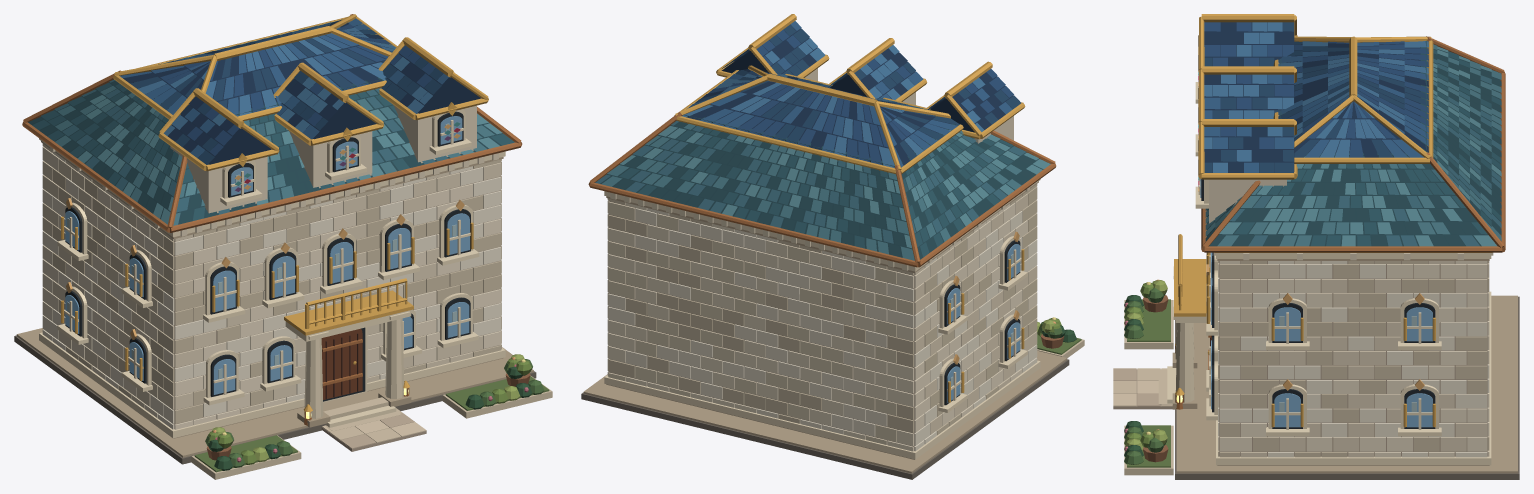
File: noble-nivel-8.glb
The picture shows the model from 3 angles, left to right: view 1: azimuth 30°, elevation 25°; view 2: azimuth 150°, elevation 25°; view 3: azimuth 270°, elevation 25°; orthographic projection. The views are drawn at different scales.
Parts seen in each view (by area): view 1: Casa nobre 08 #e6d7ba, Casa nobre 08 #ded1b9, Casa nobre 08 #eae1ce, Casa nobre 08 #cec1a8, Casa nobre 08 #e8dcc5, Casa nobre 08 #d5a452, Casa nobre 08 #20354f, Casa nobre 08 #b4a38a, Casa nobre 08 #294952, Casa nobre 08 #567185, Casa nobre 08 #a76e42, Casa nobre 08 #252c32 (+20 smaller); view 2: Casa nobre 08 #e8dcc5, Casa nobre 08 #ded1b9, Casa nobre 08 #eae1ce, Casa nobre 08 #cec1a8, Casa nobre 08 #294952, Casa nobre 08 #d5a452, Casa nobre 08 #b4a38a, Casa nobre 08 #e6d7ba, Casa nobre 08 #20354f, Casa nobre 08 #305762, Casa nobre 08 #46717c, Casa nobre 08 #3b6472 (+10 smaller); view 3: Casa nobre 08 #cec1a8, Casa nobre 08 #294952, Casa nobre 08 #ded1b9, Casa nobre 08 #e6d7ba, Casa nobre 08 #eae1ce, Casa nobre 08 #b4a38a, Casa nobre 08 #d5a452, Casa nobre 08 #e8dcc5, Casa nobre 08 #20354f, Casa nobre 08 #426e90, Casa nobre 08 #2d4d71, Casa nobre 08 #46717c (+19 smaller).
Boxes of the visible parts, <box> form: Casa nobre 08 #e6d7ba: <box>39,109,505,438</box>; Casa nobre 08 #ded1b9: <box>42,105,501,413</box>; Casa nobre 08 #eae1ce: <box>42,152,501,429</box>; Casa nobre 08 #cec1a8: <box>53,159,501,423</box>; Casa nobre 08 #e8dcc5: <box>42,147,501,429</box>; Casa nobre 08 #d5a452: <box>61,14,488,411</box>; Casa nobre 08 #20354f: <box>123,19,480,164</box>; Casa nobre 08 #b4a38a: <box>16,141,533,457</box>; Casa nobre 08 #294952: <box>28,80,502,224</box>; Casa nobre 08 #567185: <box>65,116,469,394</box>; Casa nobre 08 #a76e42: <box>22,14,522,425</box>; Casa nobre 08 #252c32: <box>65,111,470,401</box>; Casa nobre 08 #e8dcc5: <box>607,198,1037,451</box>; Casa nobre 08 #ded1b9: <box>607,68,1037,444</box>; Casa nobre 08 #eae1ce: <box>607,208,1037,451</box>; Casa nobre 08 #cec1a8: <box>607,184,1037,435</box>; Casa nobre 08 #294952: <box>600,117,1043,259</box>; Casa nobre 08 #d5a452: <box>674,14,1025,402</box>; Casa nobre 08 #b4a38a: <box>583,181,1067,473</box>; Casa nobre 08 #e6d7ba: <box>604,179,1040,459</box>; Casa nobre 08 #20354f: <box>687,24,1013,165</box>; Casa nobre 08 #305762: <box>619,74,1013,257</box>; Casa nobre 08 #46717c: <box>601,120,1021,260</box>; Casa nobre 08 #3b6472: <box>595,121,1026,243</box>; Casa nobre 08 #cec1a8: <box>1218,261,1489,457</box>; Casa nobre 08 #294952: <box>1207,49,1501,246</box>; Casa nobre 08 #ded1b9: <box>1209,179,1493,457</box>; Casa nobre 08 #e6d7ba: <box>1167,75,1491,465</box>; Casa nobre 08 #eae1ce: <box>1218,261,1489,457</box>; Casa nobre 08 #b4a38a: <box>1172,259,1517,473</box>; Casa nobre 08 #d5a452: <box>1174,14,1491,427</box>; Casa nobre 08 #e8dcc5: <box>1218,261,1489,457</box>; Casa nobre 08 #20354f: <box>1204,22,1428,172</box>; Casa nobre 08 #426e90: <box>1204,22,1428,172</box>; Casa nobre 08 #2d4d71: <box>1204,22,1428,157</box>; Casa nobre 08 #46717c: <box>1205,44,1501,246</box>.
Bounding box in the file's own units: 9.53 × 8.16 × 9.2.
